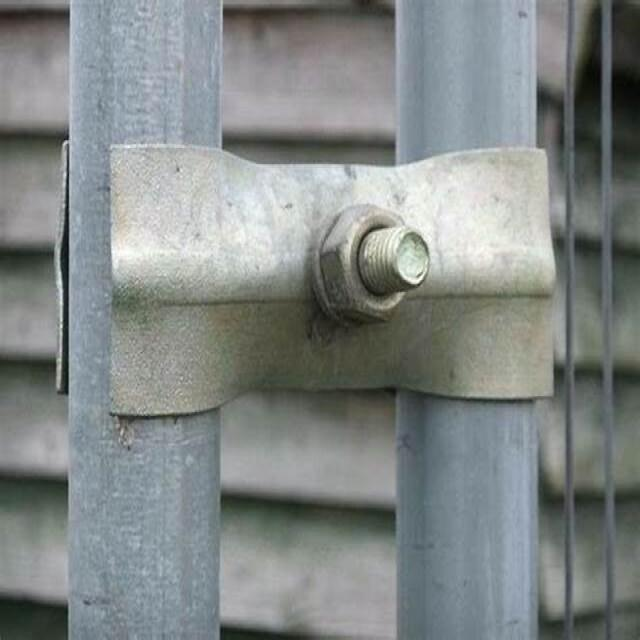bolt nut: (317, 196, 412, 325)
